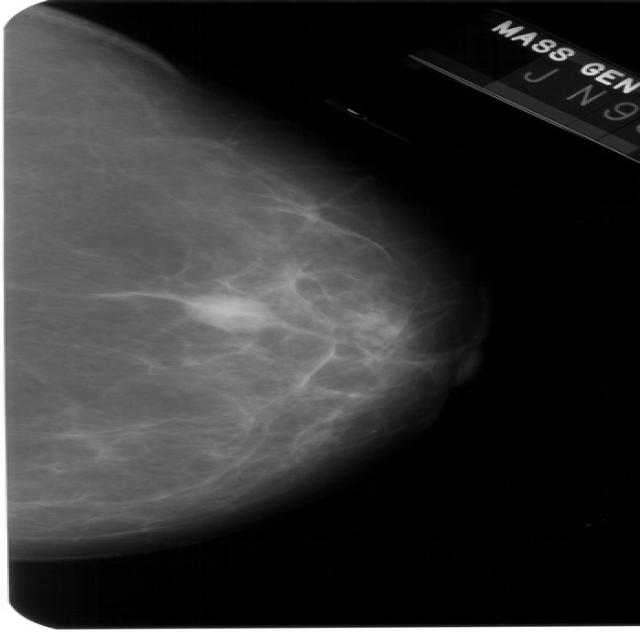tumour: (181, 292, 274, 332)
